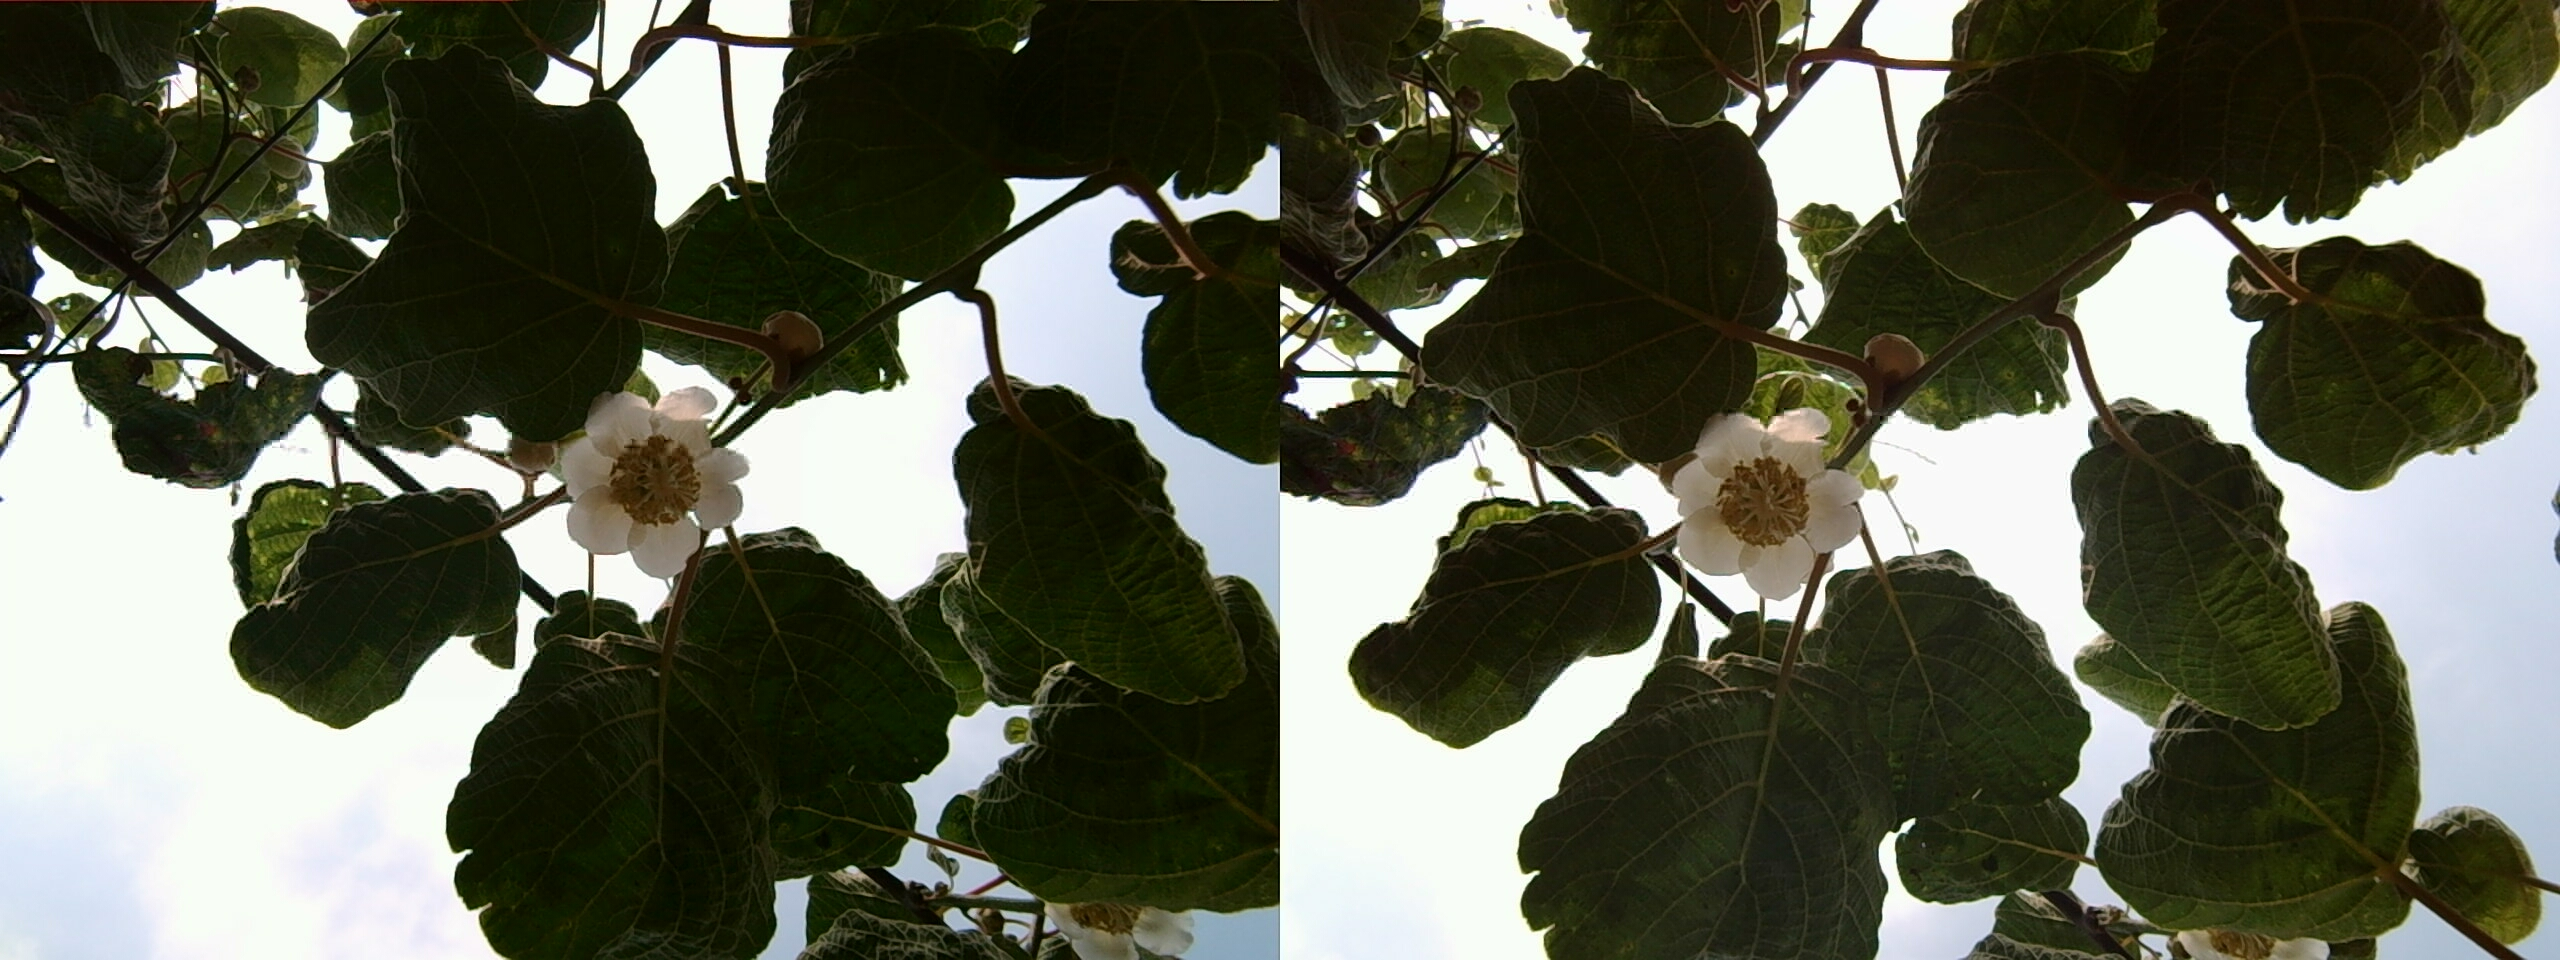flower: (1656, 393, 1873, 594), (549, 371, 749, 568)
